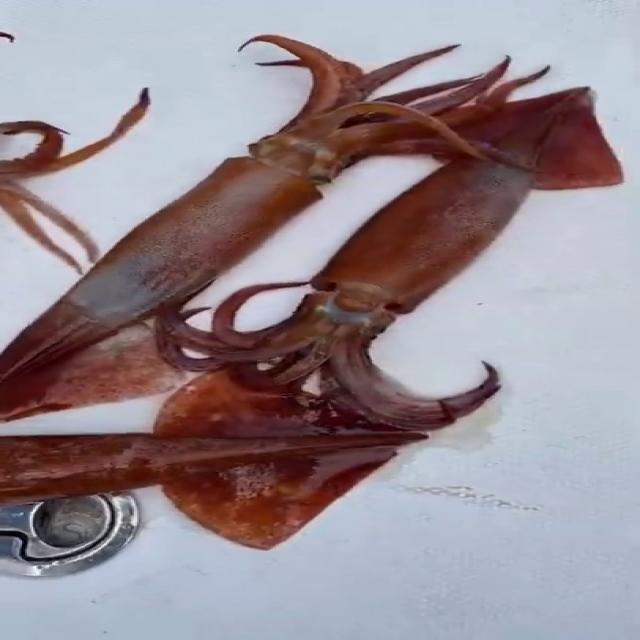squid: (0, 34, 551, 422), (152, 87, 628, 430), (0, 363, 435, 551)
